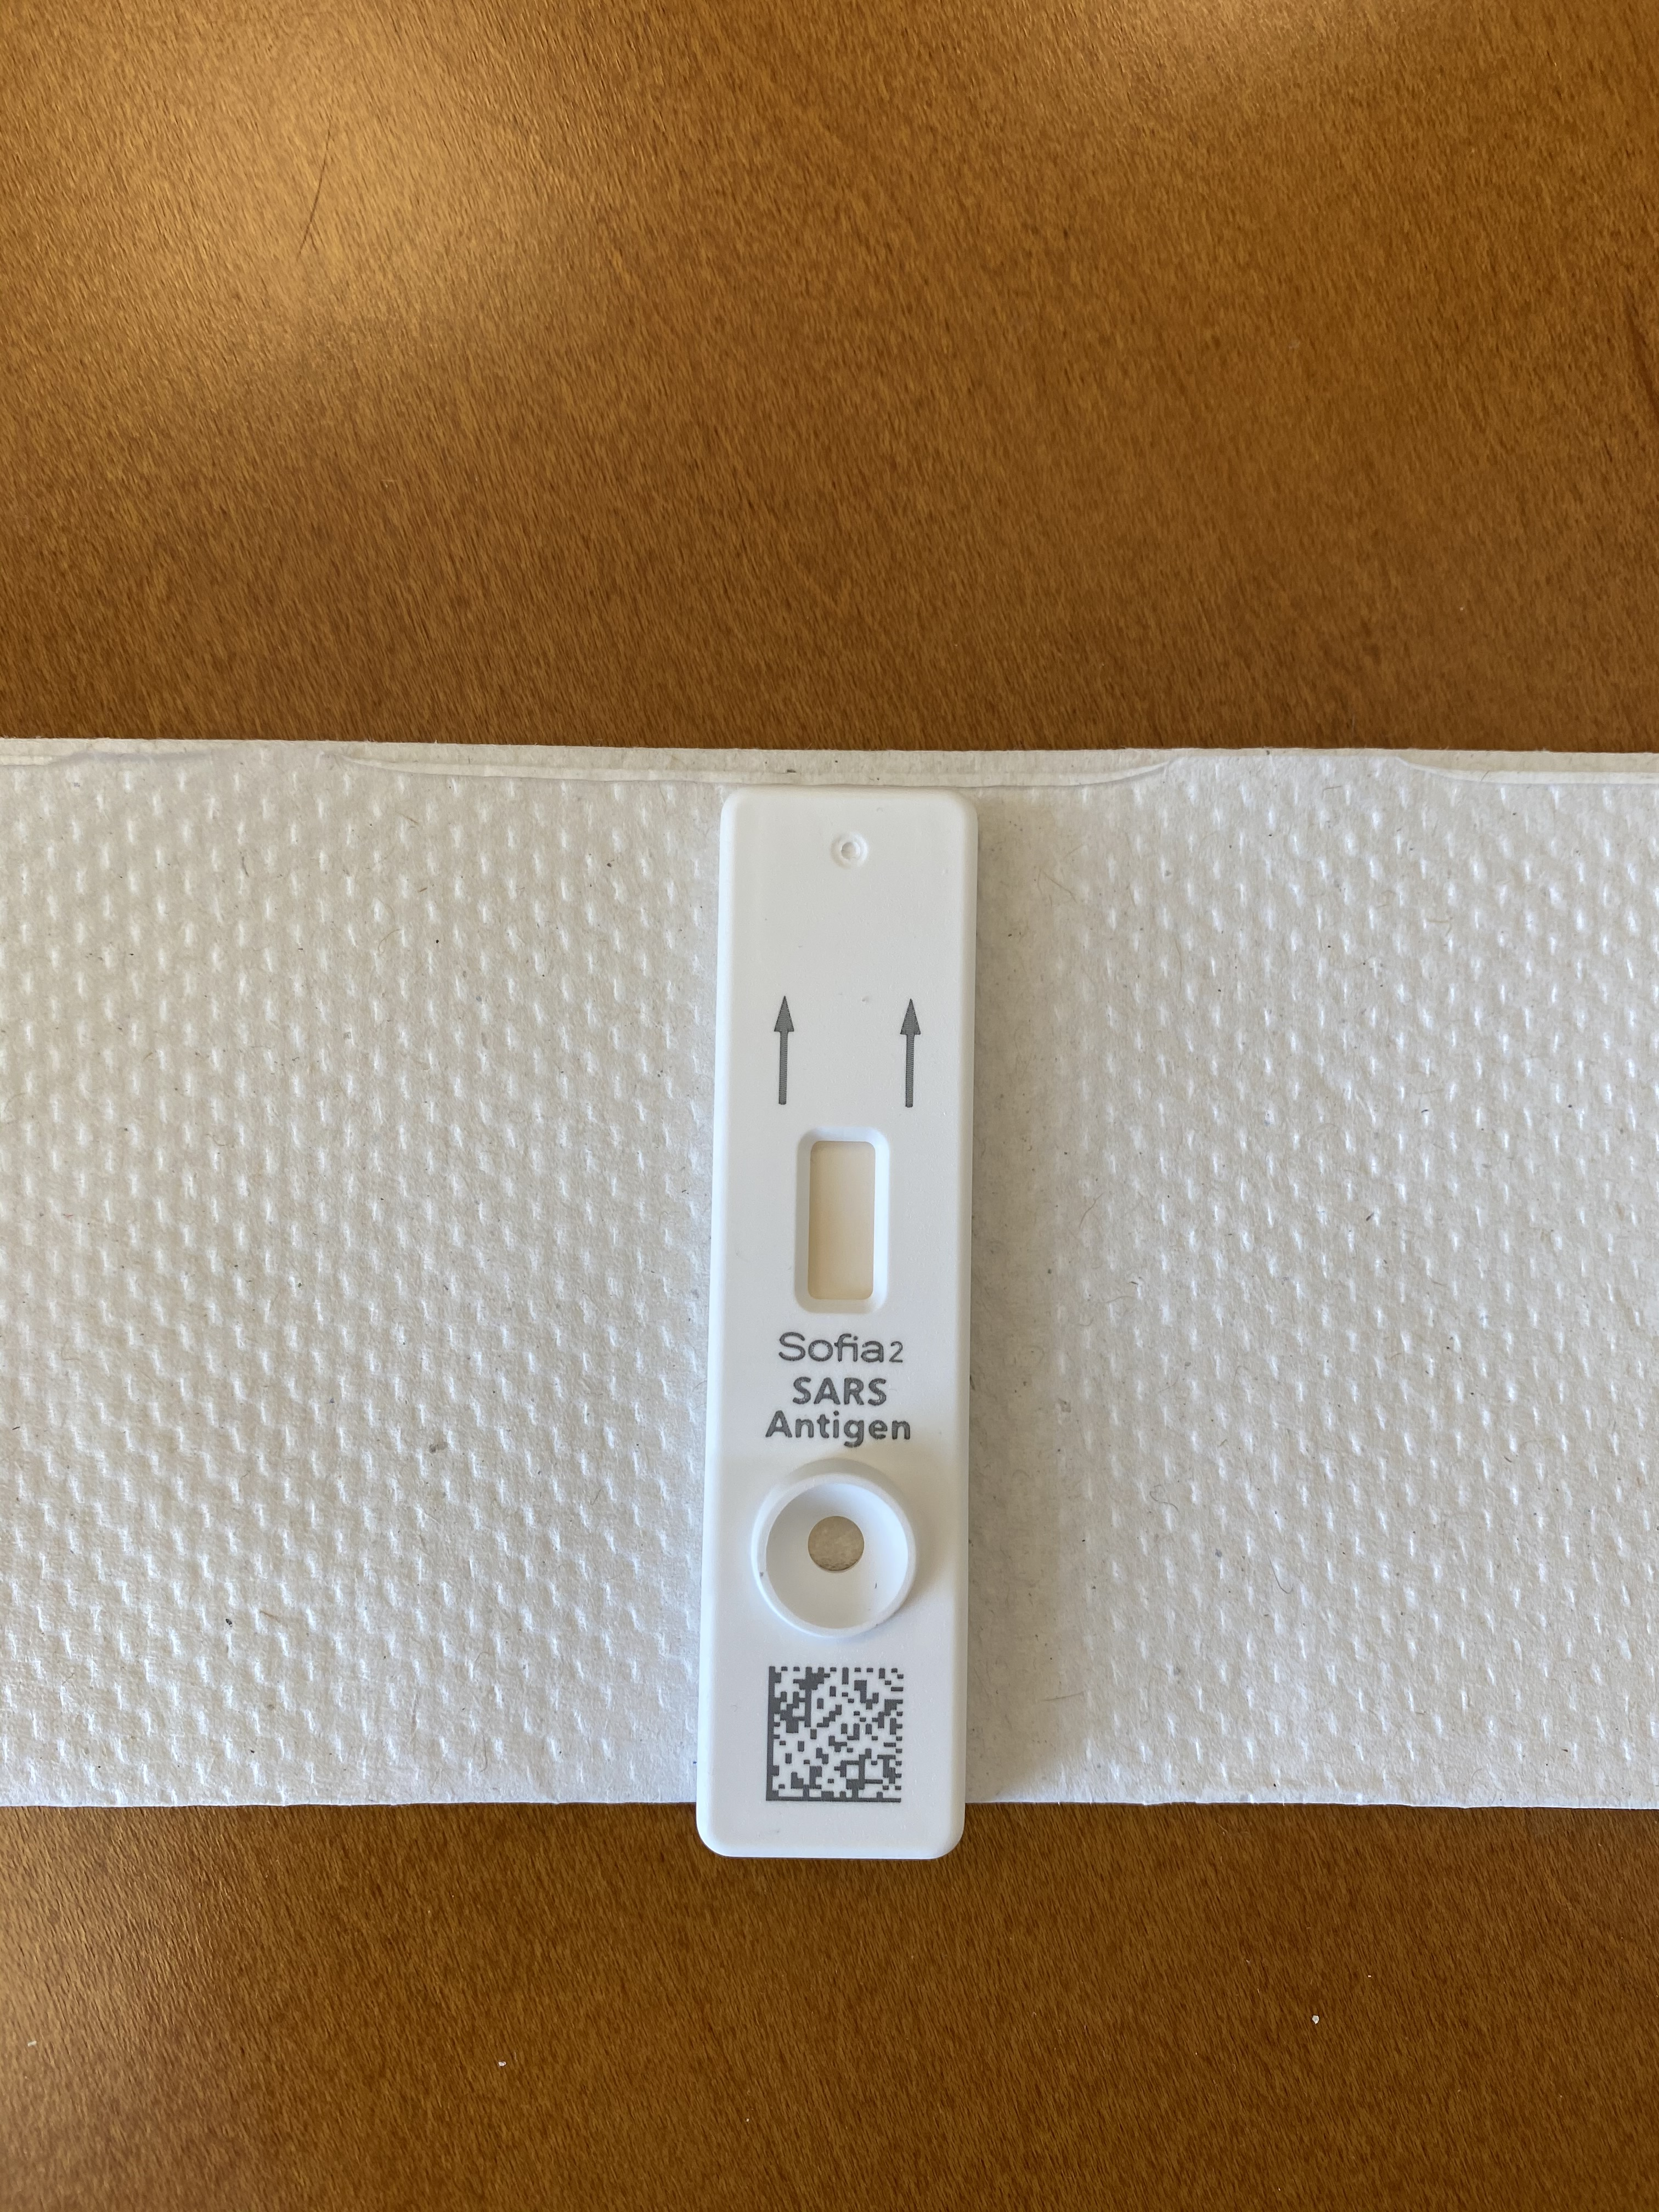quidel: (678, 775, 1004, 1876)
